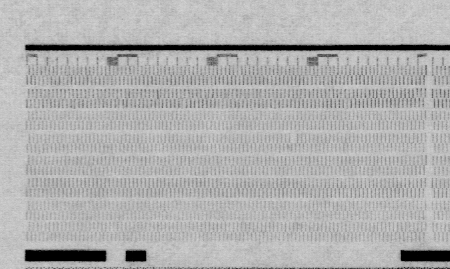Broken hole: (287, 131, 299, 144)
